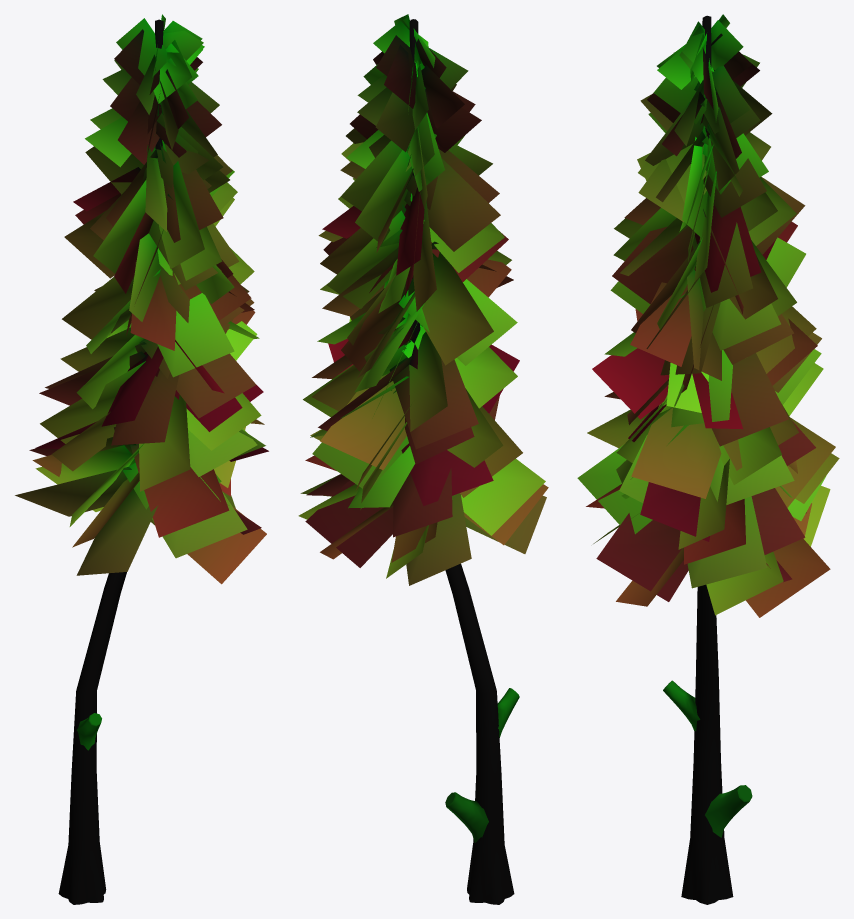
Rendered from M_Pine_2_14.fbx.
3 renders of one model, left to right at view 1: azimuth 30°, elevation 25°; view 2: azimuth 150°, elevation 25°; view 3: azimuth 270°, elevation 25°, orthographic. The views are drawn at different scales.
Visible parts, largest first — view 1: Tree_14; view 2: Tree_14; view 3: Tree_14.
Part boxes in pixels (x1,y1,x2,y2): Tree_14: (15, 14, 268, 904); Tree_14: (298, 14, 548, 904); Tree_14: (577, 14, 839, 904).
Size of the model in its own units: 743 by 2964 by 768.
